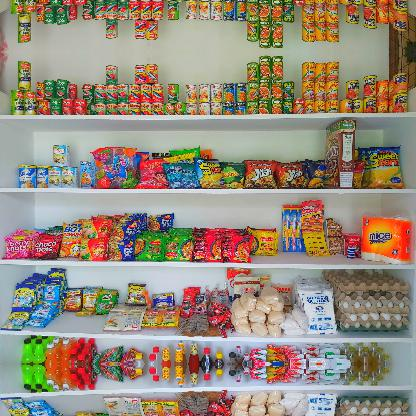Koko-Krunch: (324, 120, 354, 188)
